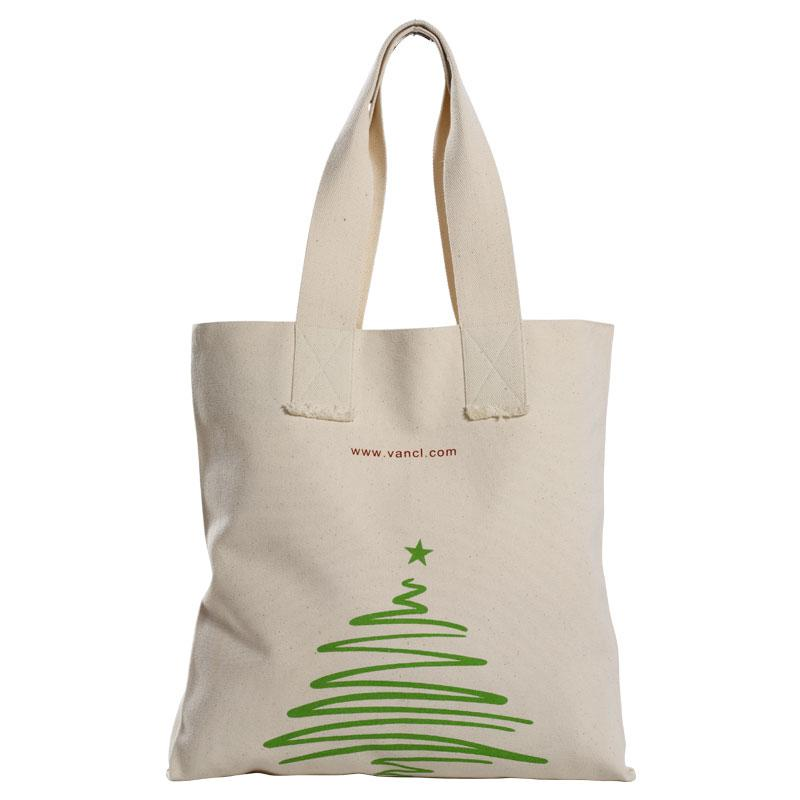flexible: (169, 17, 637, 783)
